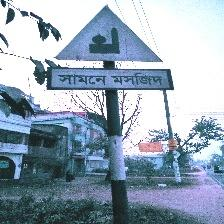Mosque in front: (45, 6, 173, 94)
